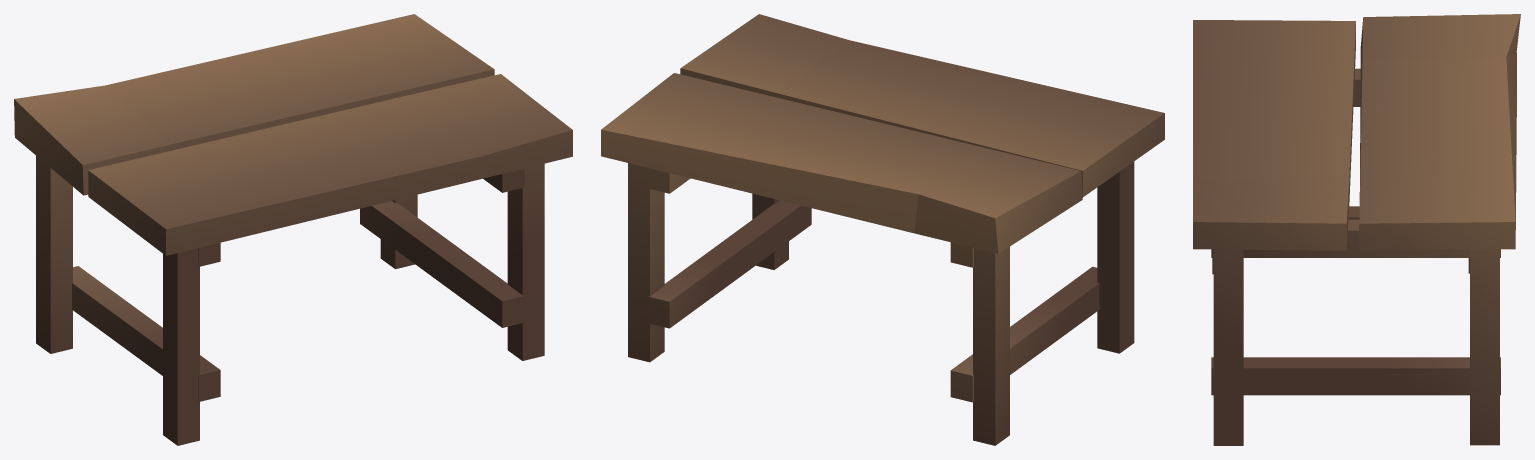
The model's file is Bench 2.glb.
3 views of the same model, side by side, from view 1: azimuth 30°, elevation 25°; view 2: azimuth 150°, elevation 25°; view 3: azimuth 270°, elevation 25° (orthographic). The views are drawn at different scales.
Visible parts, largest first — view 1: Bench 2; view 2: Bench 2; view 3: Bench 2.
Boxes of the visible parts, x1,y1,x2,y2 form: Bench 2: (14, 14, 572, 445); Bench 2: (601, 14, 1164, 445); Bench 2: (1193, 14, 1520, 445).
Size of what is drawn, in the model's own units: 0.8195 by 0.4562 by 0.5573.
Materials: 1 (1 with a texture image).
